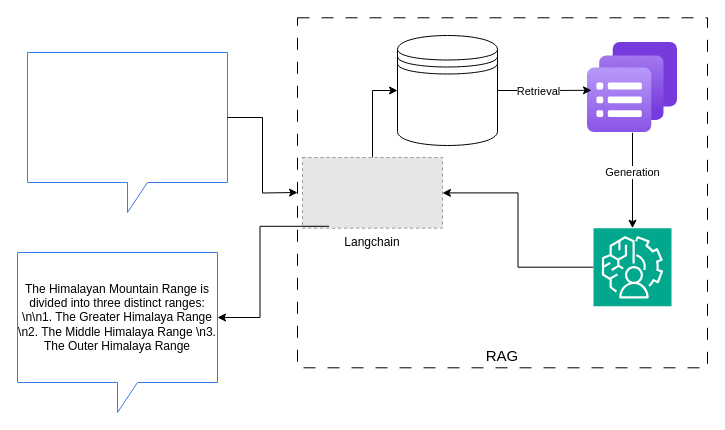
This 725x430 diagram has some shape labels left out. Grey dashed boxes stand in for pictures. The centre of each missing label's shape, as x and y in pixels:
"Vector DB" goes at point 447,90.
"What are the different parts of Himalayas?" goes at point 127,132.
